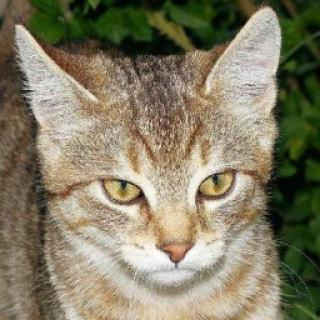cat: (13, 25, 278, 290)
nose: (154, 218, 196, 266)
